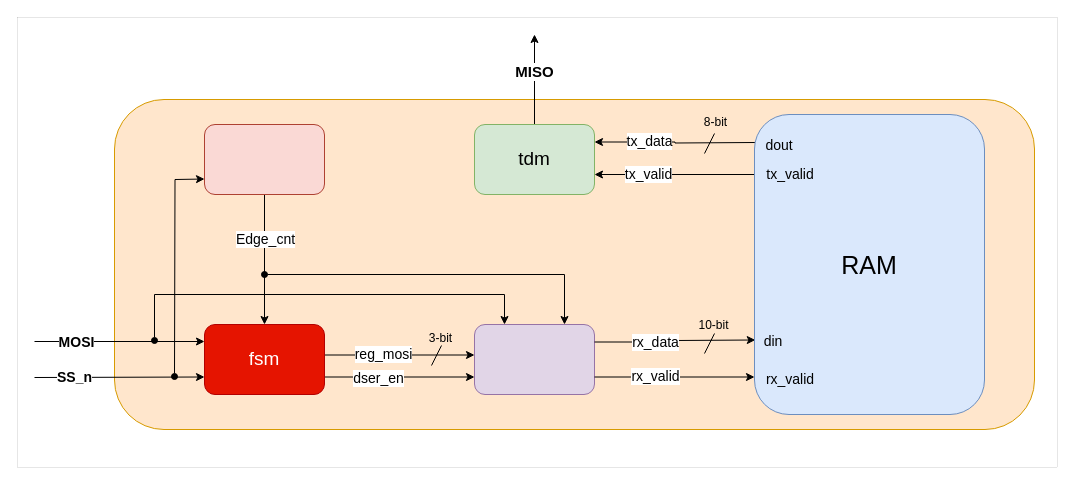
Image size: 1074x484. Some labels were removed from this diagram. The centre of each missing label's shape, as x and y in pixels:
counter: the point at 264,159
deserielizer: the point at 534,359
